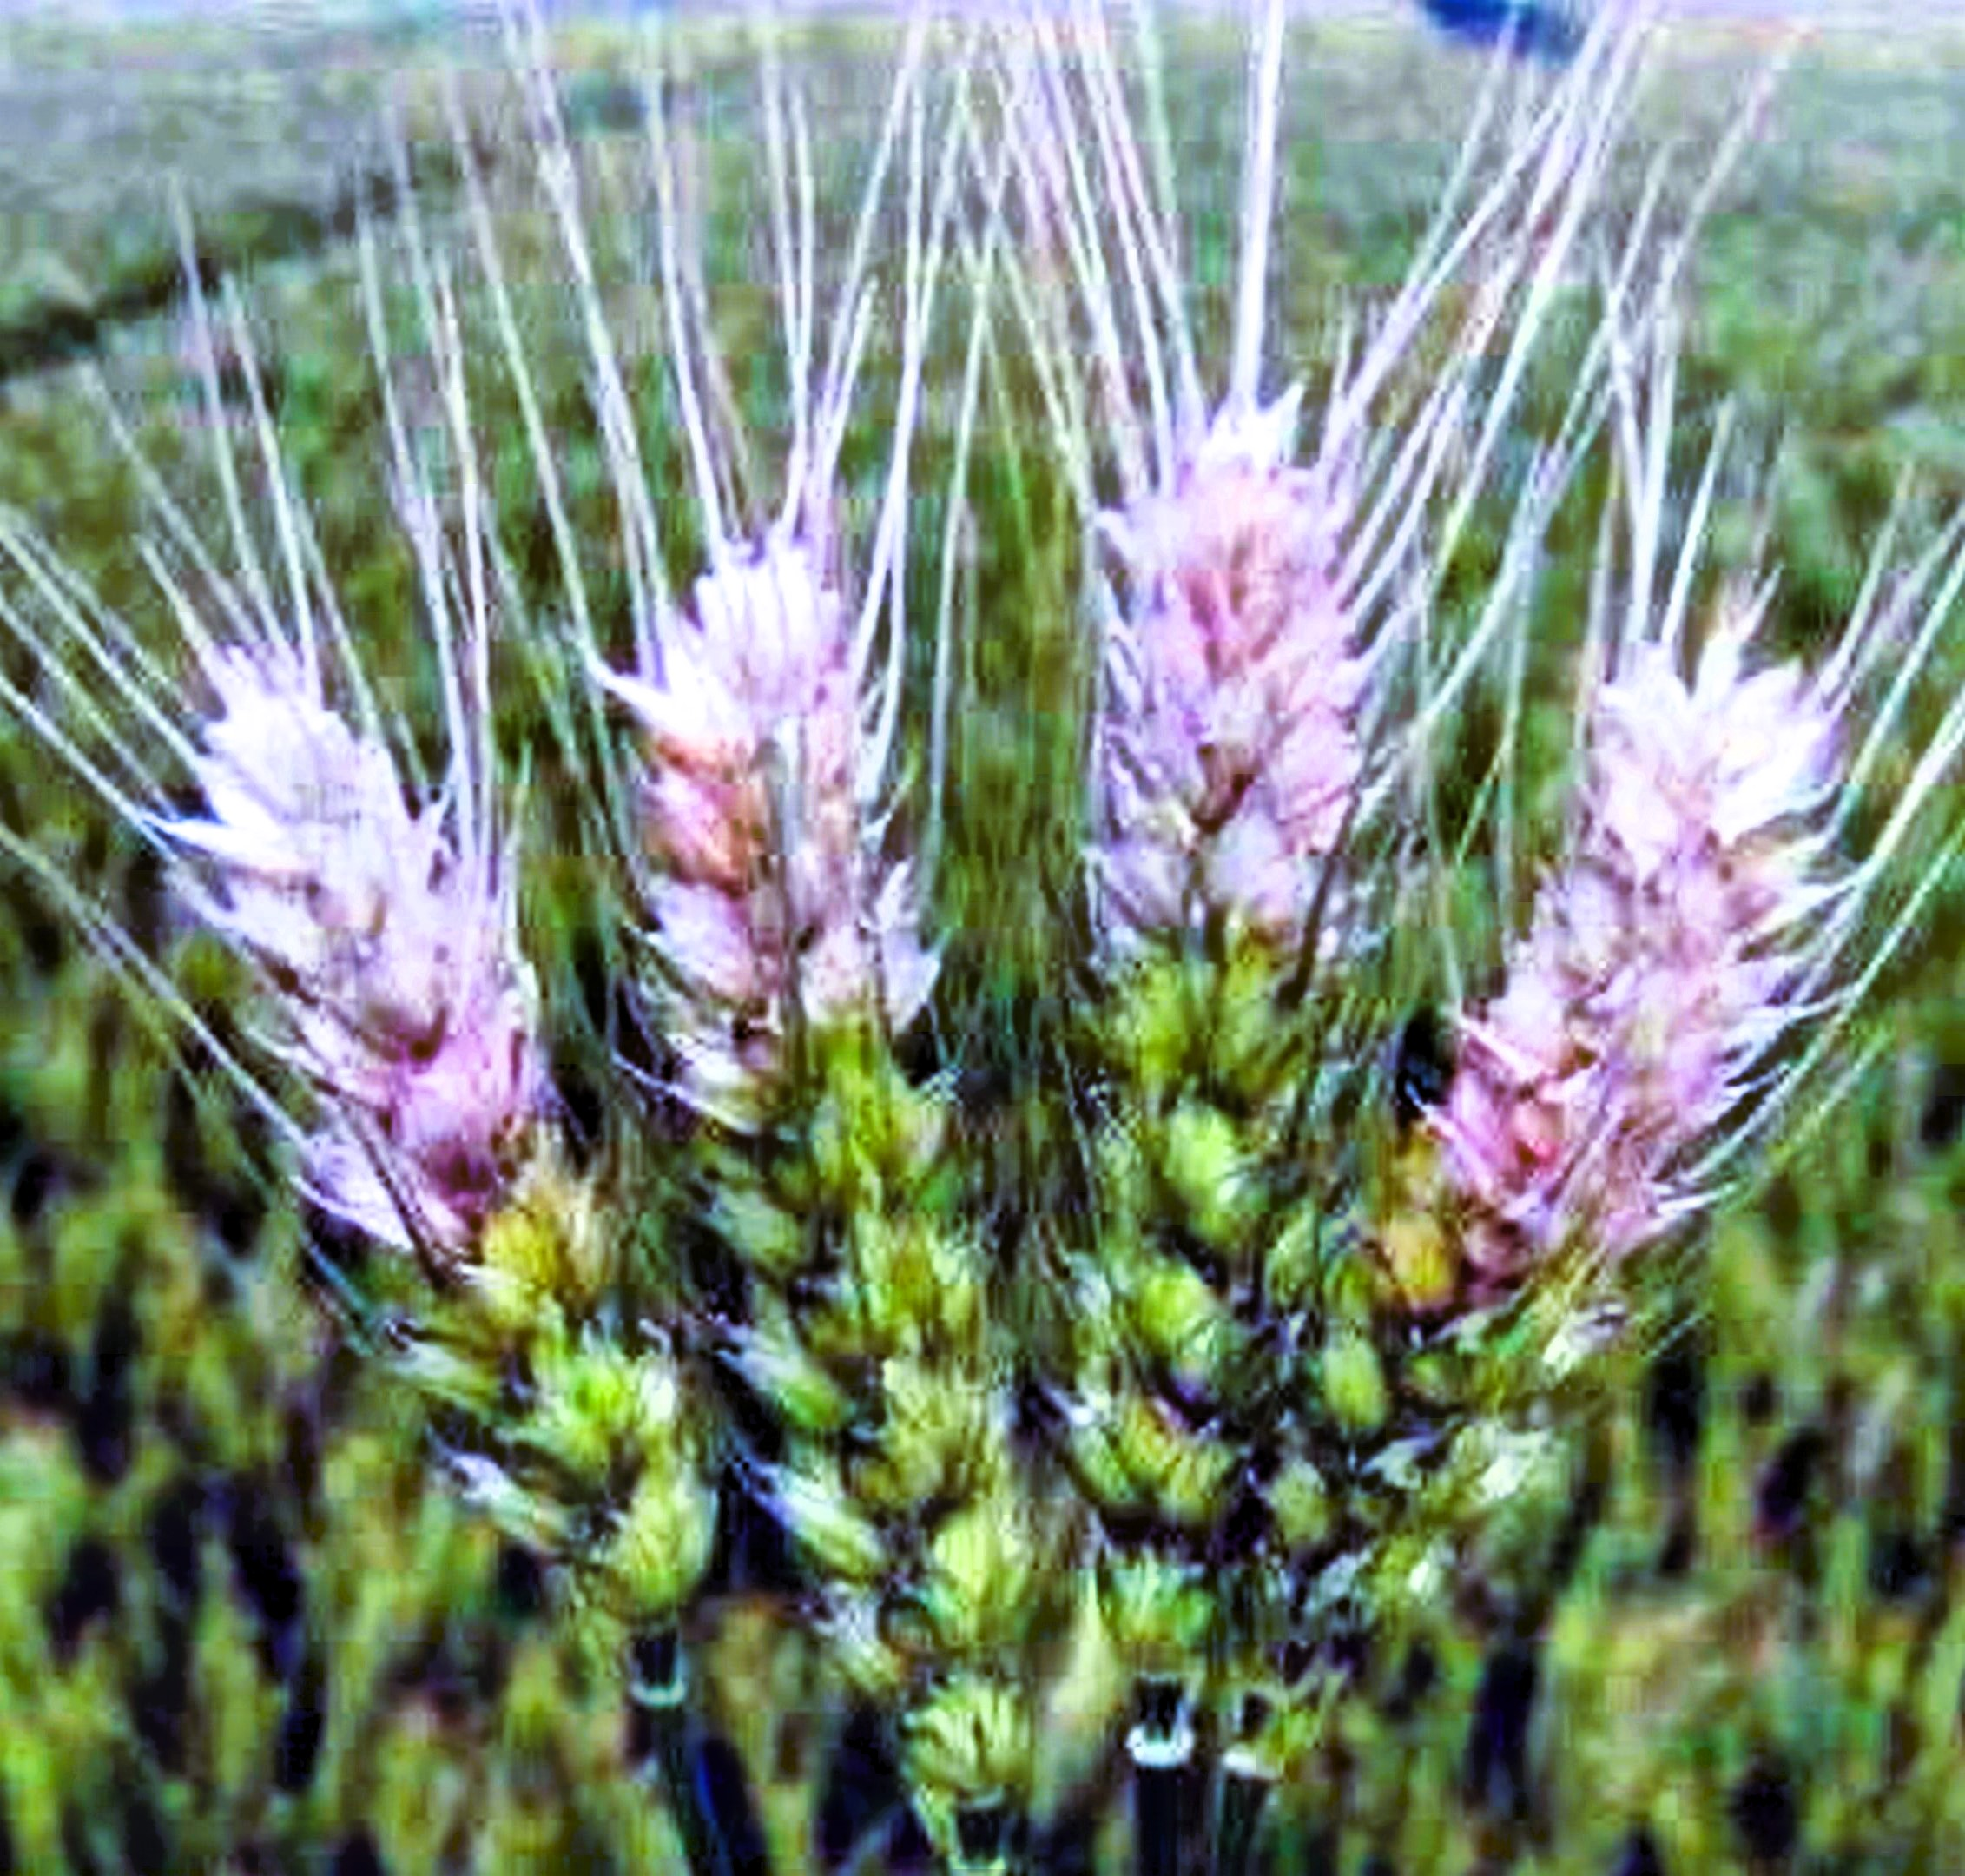Wheat scab: (609, 532, 1044, 1685)
